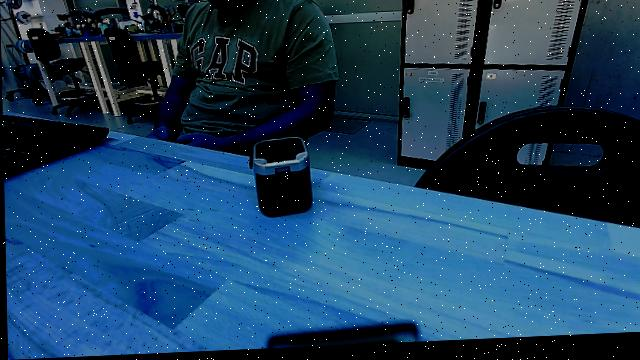adapter: (242, 132, 323, 228)
